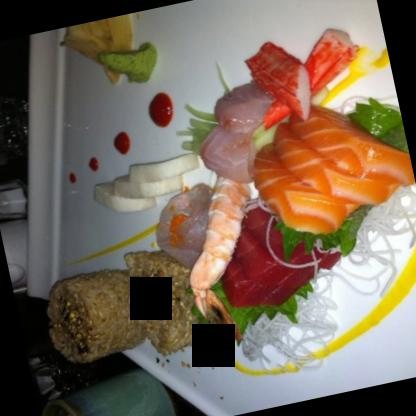salmon: (236, 88, 415, 242)
